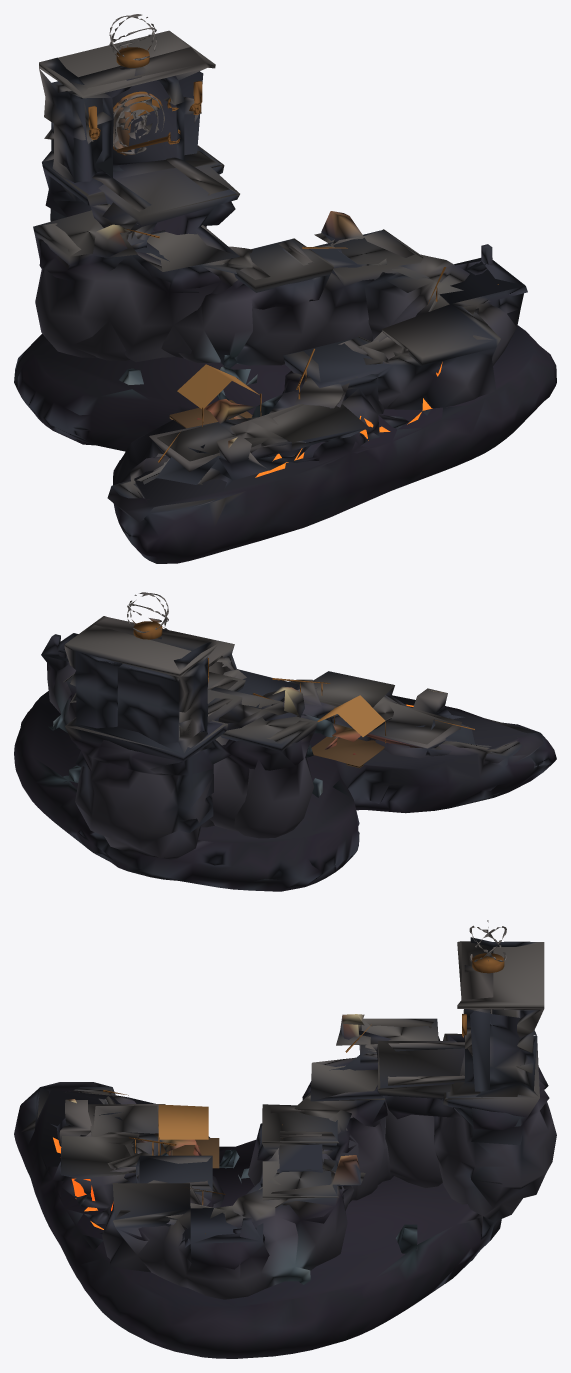
Rendered from vulkara.far.glb.
The picture shows the model from 3 angles, top to bottom: view 1: azimuth 30°, elevation 25°; view 2: azimuth 150°, elevation 25°; view 3: azimuth 270°, elevation 25°; orthographic projection. The views are drawn at different scales.
Visible parts, largest first — view 1: static_mineral, static_metal, static_organic; view 2: static_mineral, static_organic, static_metal; view 3: static_mineral, static_organic, static_metal.
Boxes of the visible parts, x1,y1,x2,y2 form: static_mineral: [14, 30, 556, 563]; static_metal: [88, 14, 498, 462]; static_organic: [169, 364, 261, 428]; static_mineral: [14, 616, 556, 891]; static_organic: [311, 695, 386, 768]; static_metal: [127, 592, 474, 729]; static_mineral: [14, 937, 556, 1358]; static_organic: [158, 1104, 219, 1168]; static_metal: [103, 920, 506, 1233].
Size of the model in its own units: 22.39 by 14.1 by 21.76.
